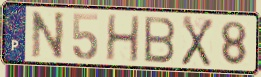5: (71, 12, 100, 62)
8: (218, 20, 250, 67)
B: (143, 15, 178, 65)
H: (104, 14, 142, 64)
N: (30, 10, 66, 61)
X: (180, 14, 215, 69)
